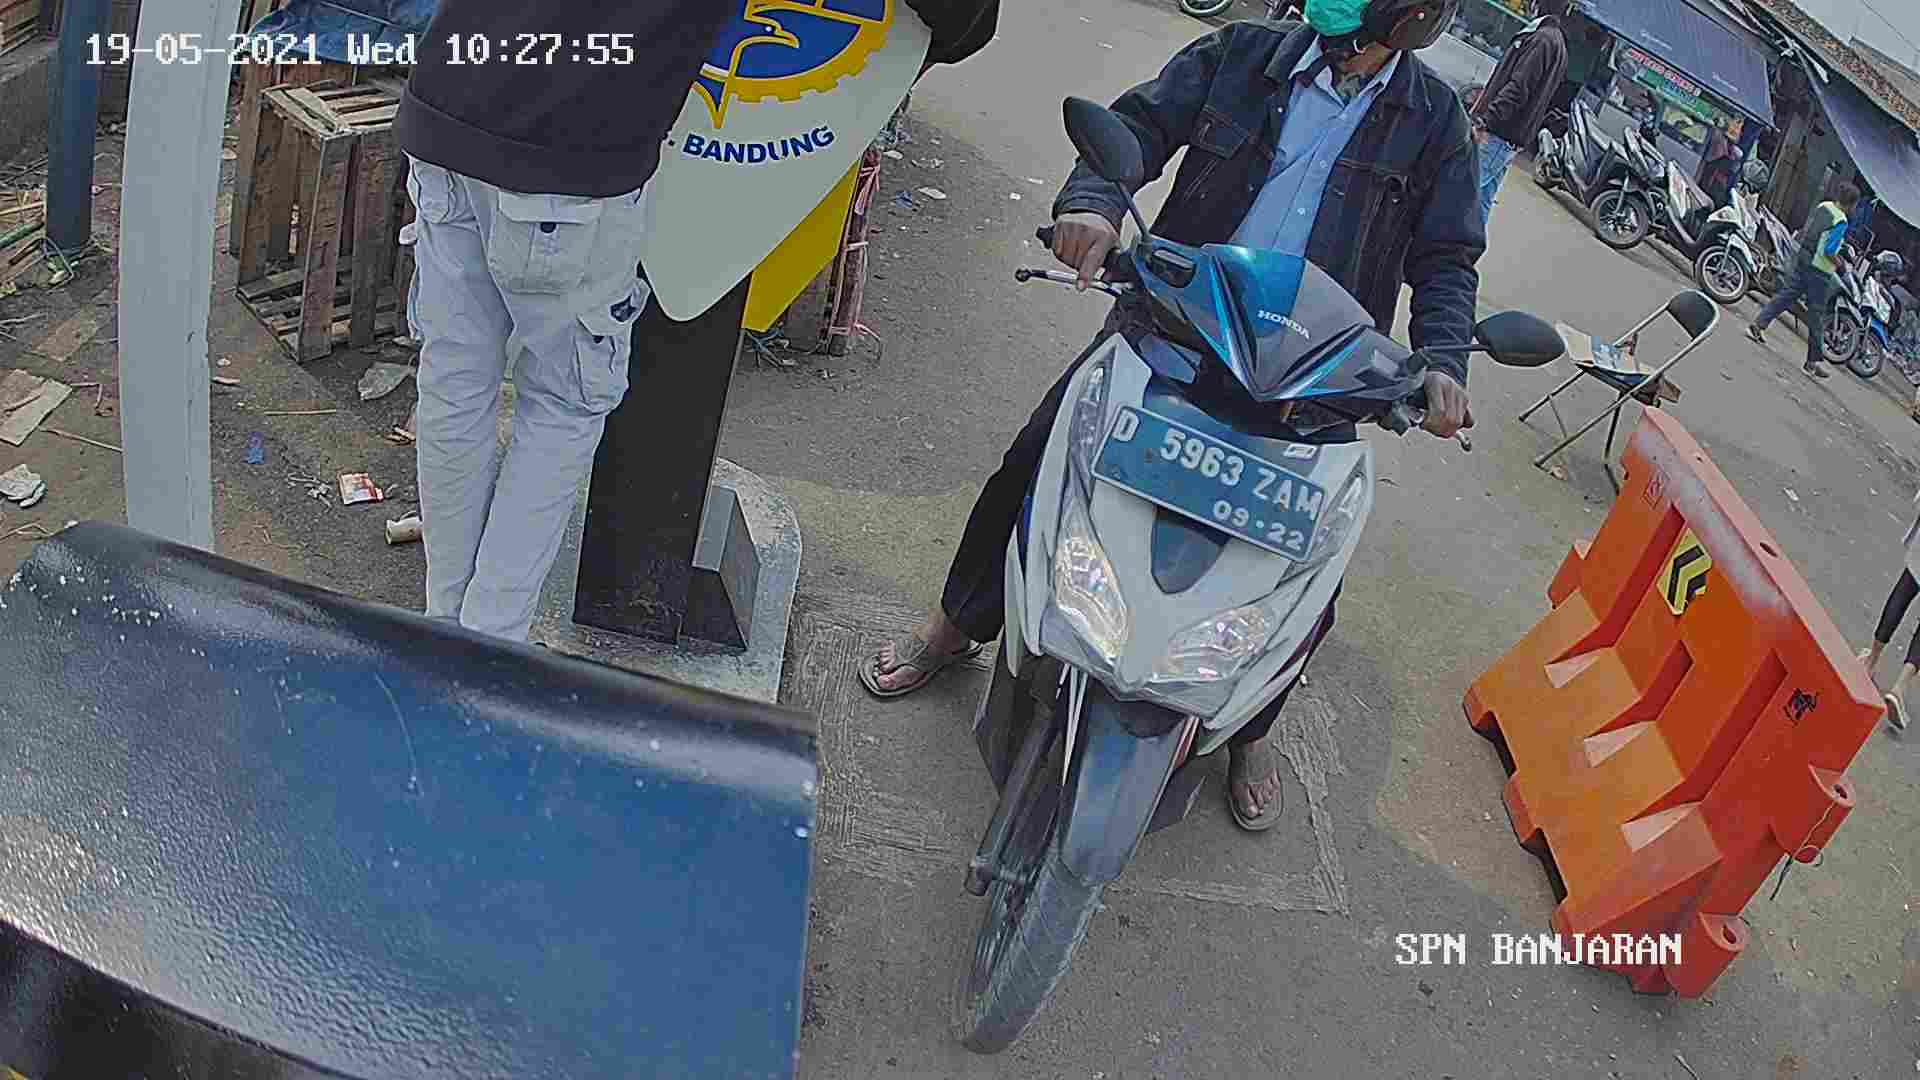motor: (934, 124, 1453, 1080)
